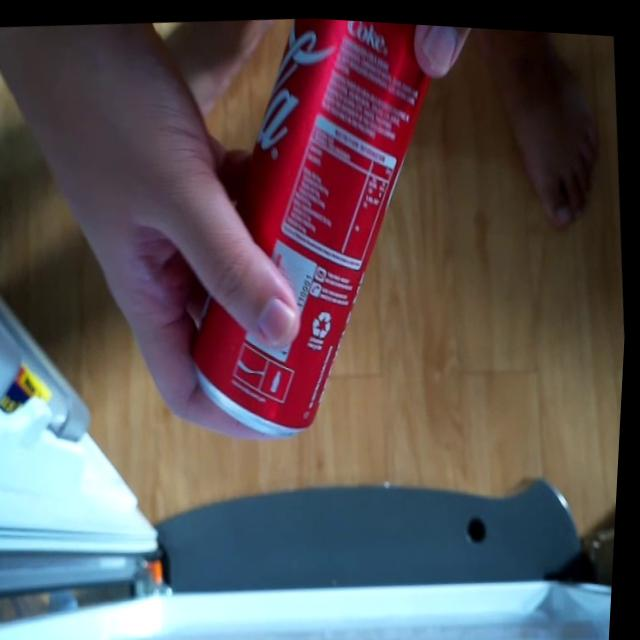coke: (154, 8, 477, 457)
